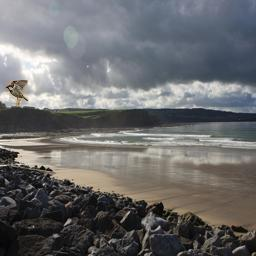Sparrow: (6, 80, 28, 107)
